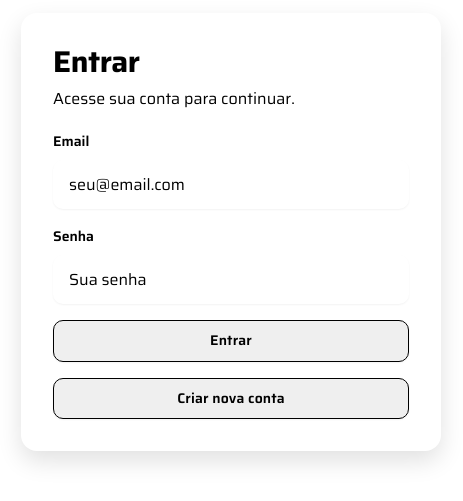
Scenario: Login › mostra feedback de erro em falha de autenticacao
Type "user@test.com" into the field labelled "Email".
click(231, 185); type("user@test.com")  # box left=53, top=160, right=409, bottom=210
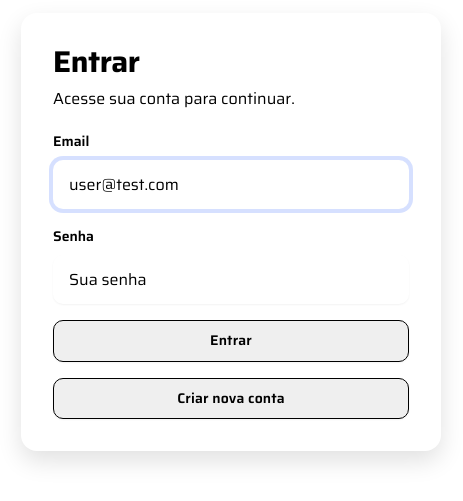
Type "senha" into the password field labelled "Senha".
click(231, 280); type("senha")  # box left=53, top=256, right=409, bottom=304
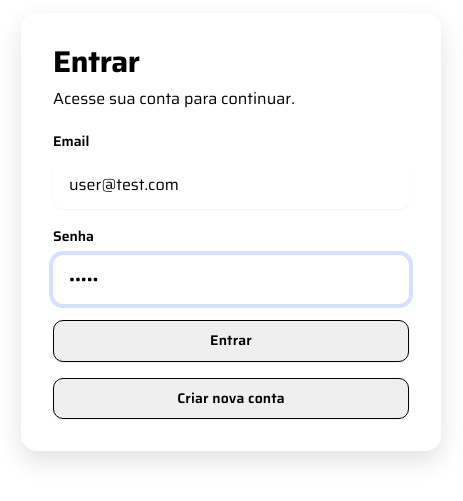
Click the button "Entrar".
click(231, 341)  # box left=53, top=320, right=409, bottom=362
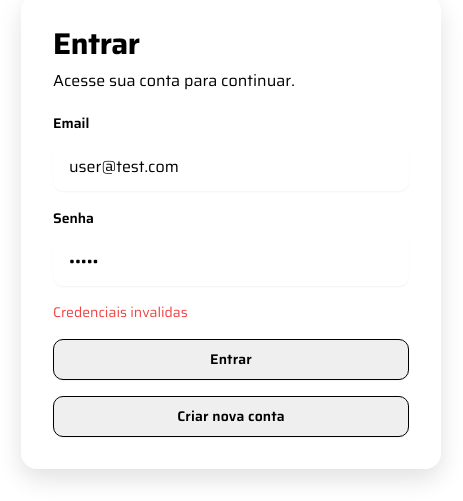
Expected: the text "Credenciais invalidas" is shown, left=53, top=301, right=188, bottom=323
